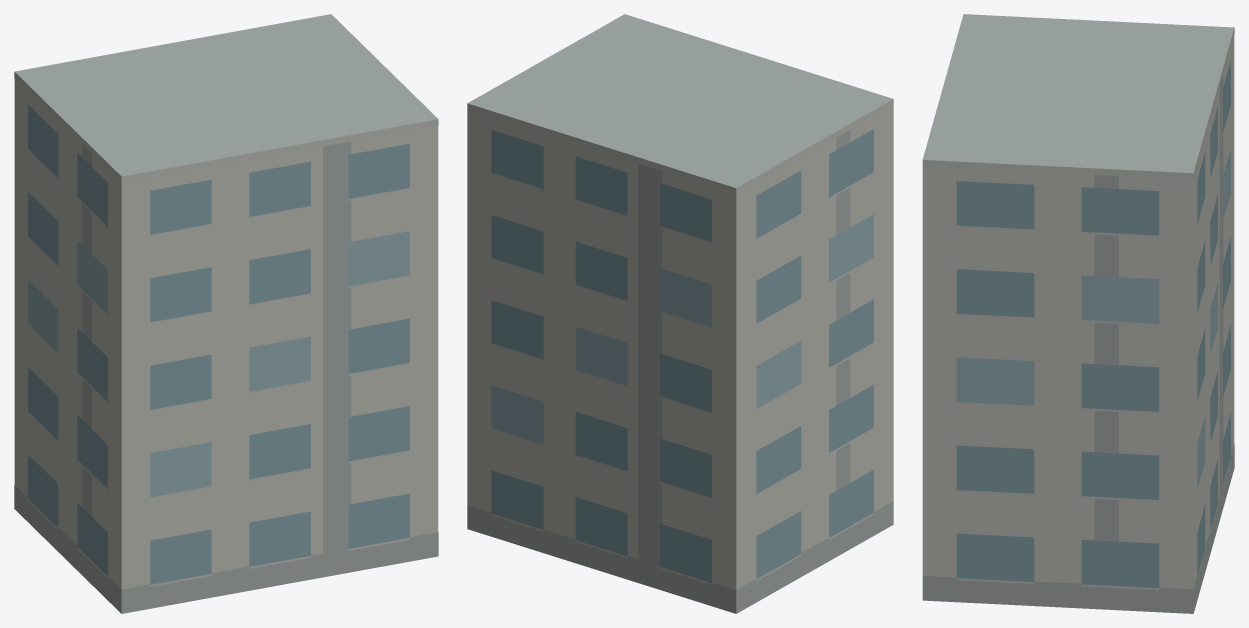
Rendered from survey-upis-32880345.glb.
The picture shows the model from 3 angles, left to right: view 1: azimuth 30°, elevation 25°; view 2: azimuth 150°, elevation 25°; view 3: azimuth 270°, elevation 25°; orthographic projection. The views are drawn at different scales.
Parts seen in each view (by area): view 1: survey-upis-32880345.tmp; view 2: survey-upis-32880345.tmp; view 3: survey-upis-32880345.tmp.
Boxes of the visible parts, bbox=[...] form: survey-upis-32880345.tmp: bbox=[14, 14, 438, 613]; survey-upis-32880345.tmp: bbox=[467, 14, 893, 613]; survey-upis-32880345.tmp: bbox=[922, 14, 1234, 613].
Bounding box in the file's own units: 12.49 × 16.1 × 10.34.
